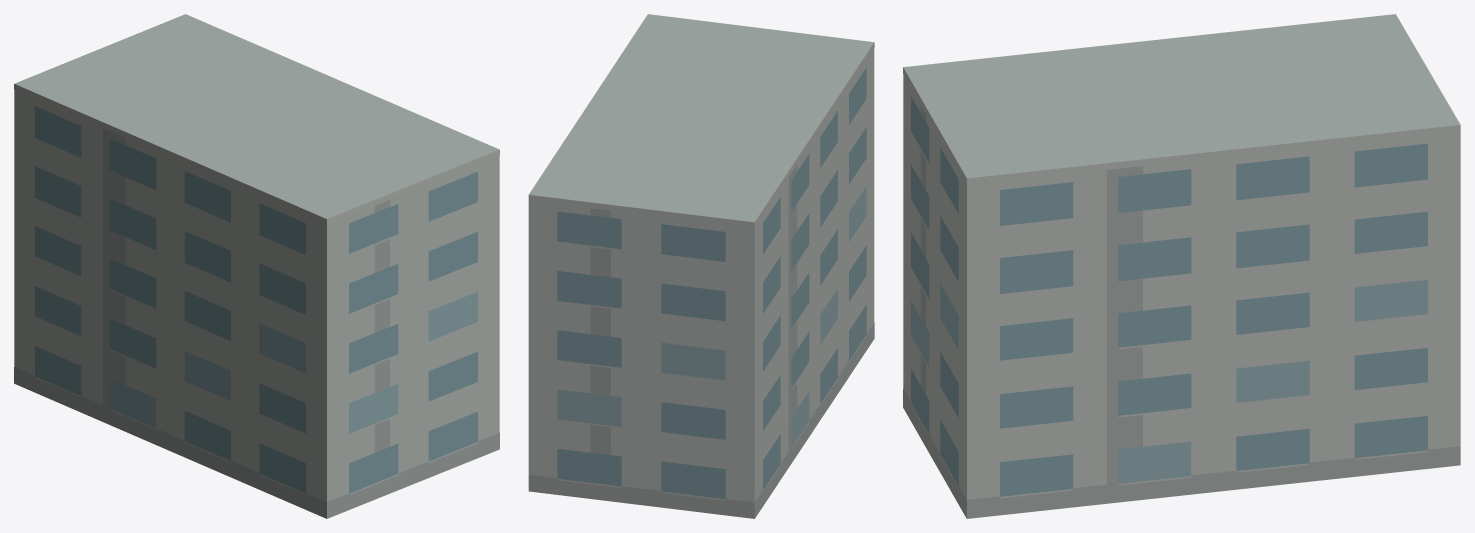
The model's file is survey-upis-32947288.glb.
The picture shows the model from 3 angles, left to right: view 1: azimuth 30°, elevation 25°; view 2: azimuth 150°, elevation 25°; view 3: azimuth 270°, elevation 25°; orthographic projection. The views are drawn at different scales.
Parts seen in each view (by area): view 1: survey-upis-32947288.tmp; view 2: survey-upis-32947288.tmp; view 3: survey-upis-32947288.tmp.
Part boxes in pixels (x1=…): survey-upis-32947288.tmp: x1=14, y1=14, x2=499, y2=518; survey-upis-32947288.tmp: x1=528, y1=14, x2=874, y2=518; survey-upis-32947288.tmp: x1=903, y1=14, x2=1460, y2=518.
Size of the model in its own units: 12.6 by 12.15 by 18.04.
